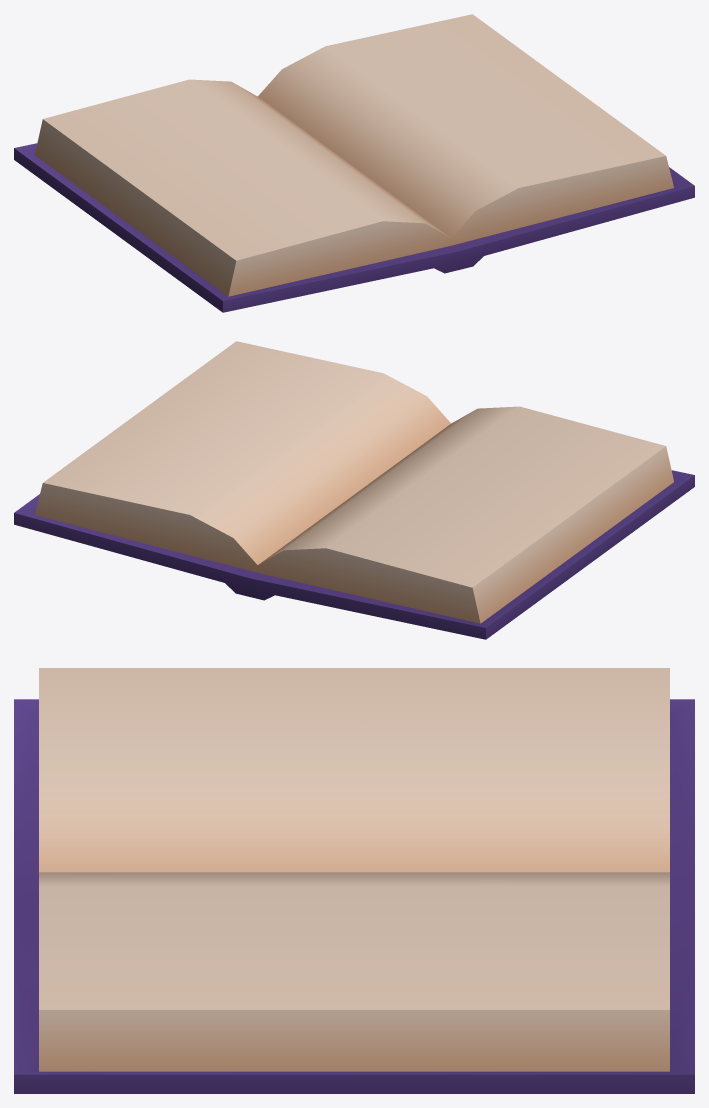
Rendered from BookOpen1.fbx.
3 views of the same model, one above another, from view 1: azimuth 30°, elevation 25°; view 2: azimuth 150°, elevation 25°; view 3: azimuth 270°, elevation 25° (orthographic). The views are drawn at different scales.
Visible parts, largest first — view 1: BookOpen1; view 2: BookOpen1; view 3: BookOpen1.
Boxes of the visible parts, left/top/right/bottom form: BookOpen1: left=14, top=14, right=694, bottom=312; BookOpen1: left=14, top=341, right=694, bottom=639; BookOpen1: left=14, top=668, right=694, bottom=1093.
Bounding box in the file's own units: 43.62 × 5.29 × 33.45.
